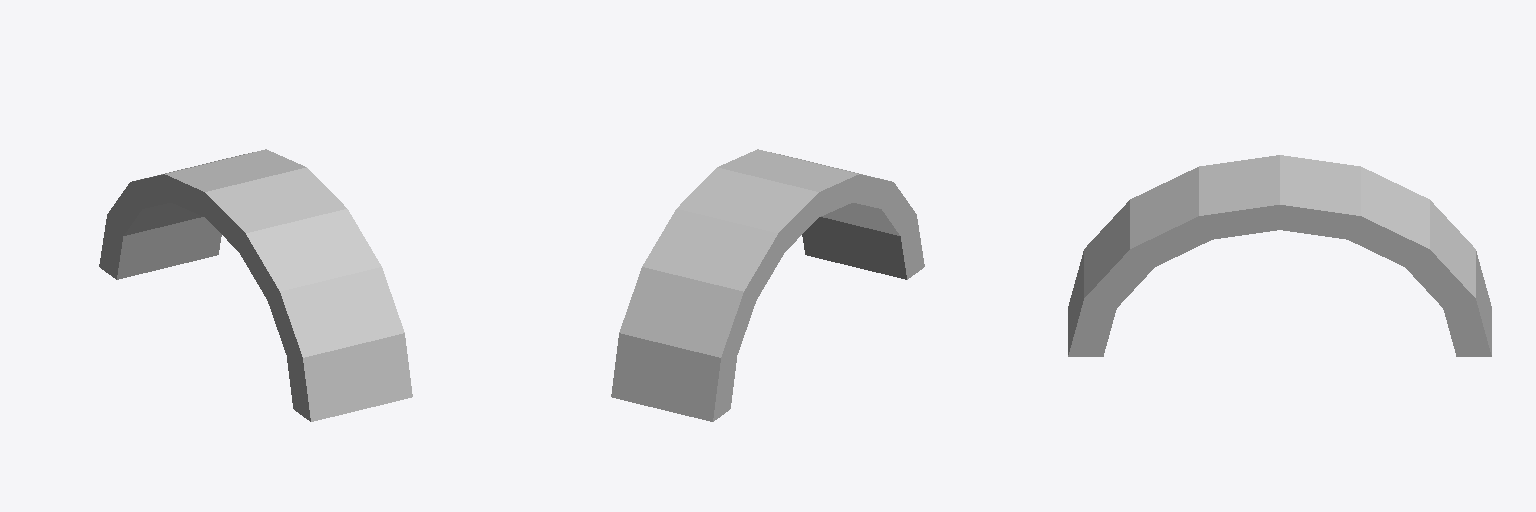
Rendered from wall_top.obj.
3 renders of one model, left to right at view 1: azimuth 30°, elevation 25°; view 2: azimuth 150°, elevation 25°; view 3: azimuth 270°, elevation 25°, orthographic.
Visible parts, largest first — view 1: Top; view 2: Top; view 3: Top.
Boxes of the visible parts, x1,y1,x2,y2 form: Top: [99, 149, 412, 421]; Top: [611, 149, 924, 421]; Top: [1068, 155, 1491, 356].
Bounding box in the file's own units: 6 × 8.57 × 21.6.